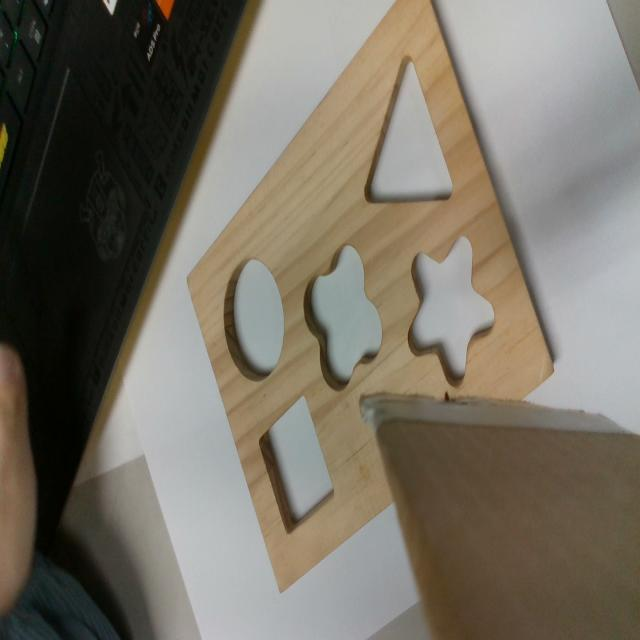circle: (223, 255, 285, 381)
flower: (303, 243, 381, 390)
square: (255, 395, 333, 536)
star: (410, 239, 496, 390)
triangle: (364, 55, 455, 208)
